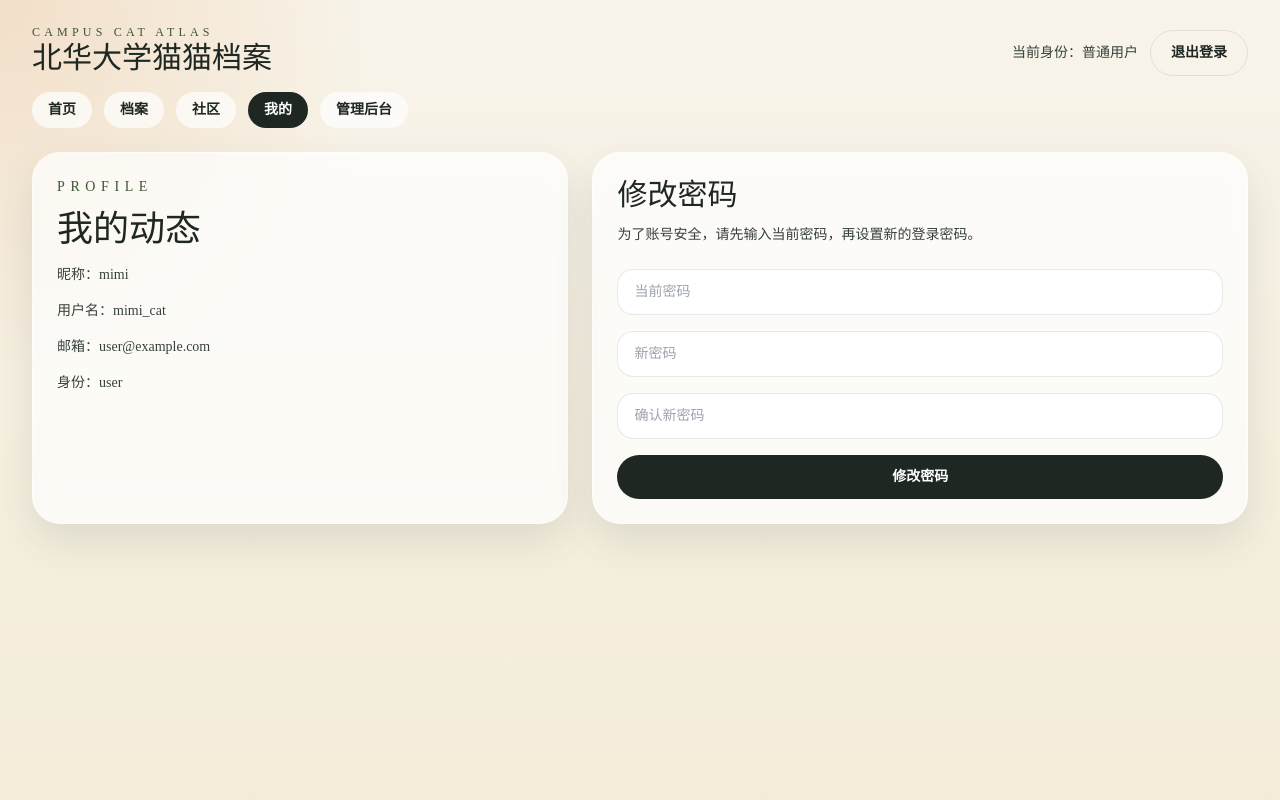
Test case: Public pages › lets a logged-in user change password from the profile page
Check: the text "用户名：mimi_cat" is shown, box [57,303,166,318]
Type "Secret123!" into the password field with placeholder "当前密码". click: (920, 292)
box: [617,269,1223,315]
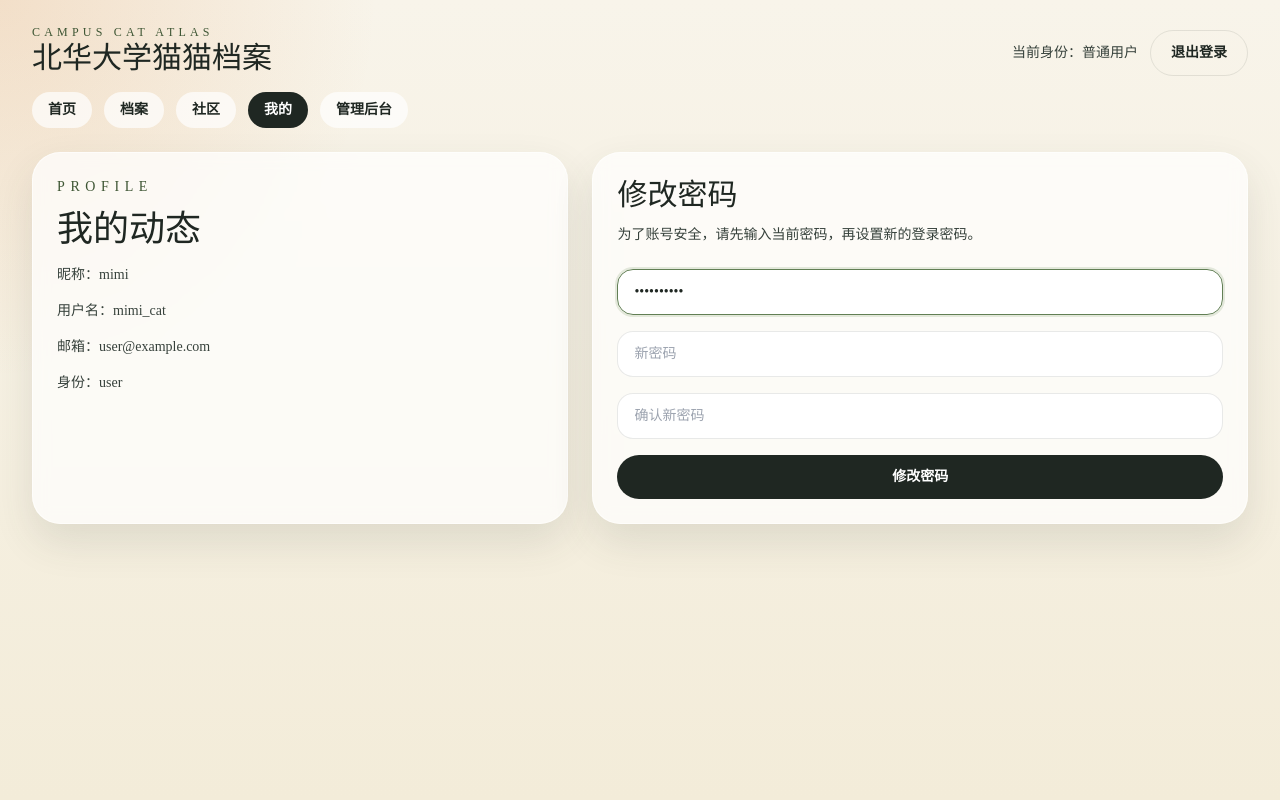
Type "BrandNew123!" into the password field with placeholder "新密码". click: (920, 354)
box: [617,331,1223,377]
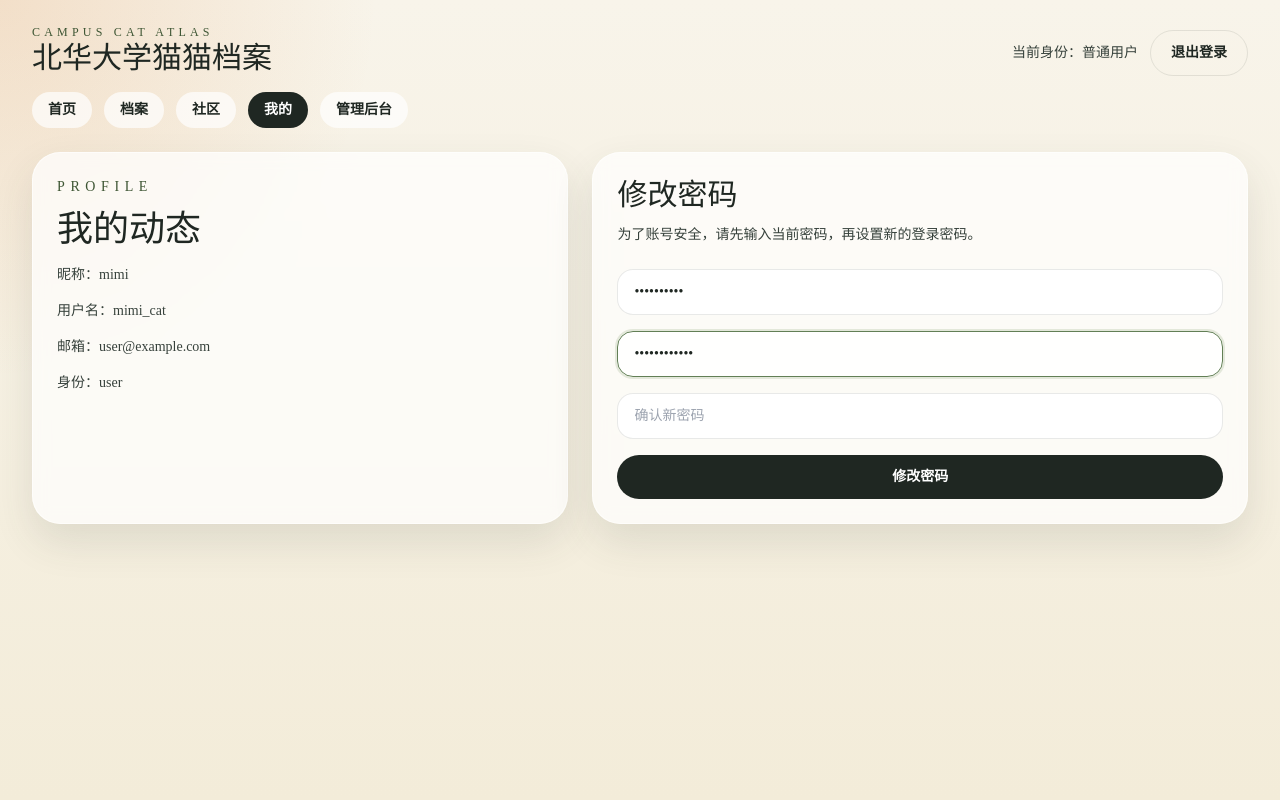
Type "BrandNew123!" into the password field with placeholder "确认新密码". click: (920, 416)
box: [617,393,1223,439]
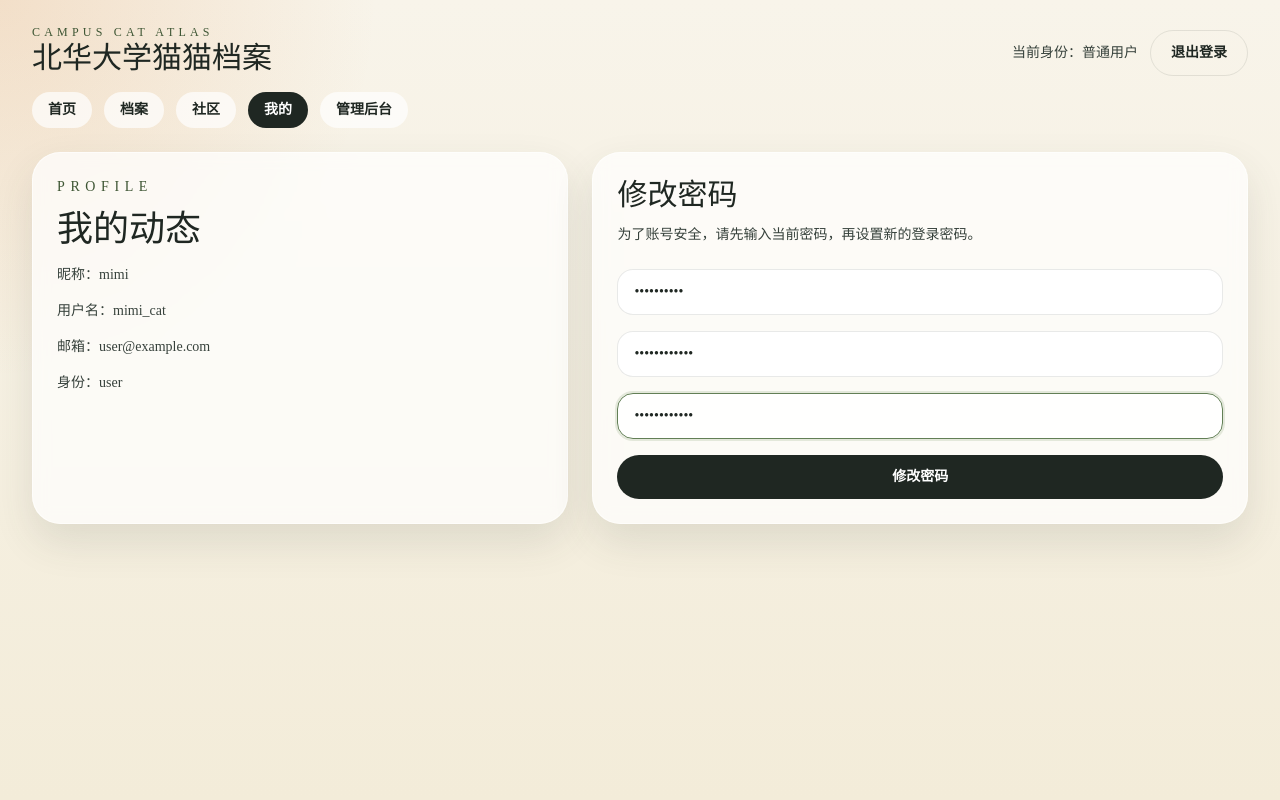
Click the button "修改密码". click: (920, 477)
box: [617,455,1223,499]
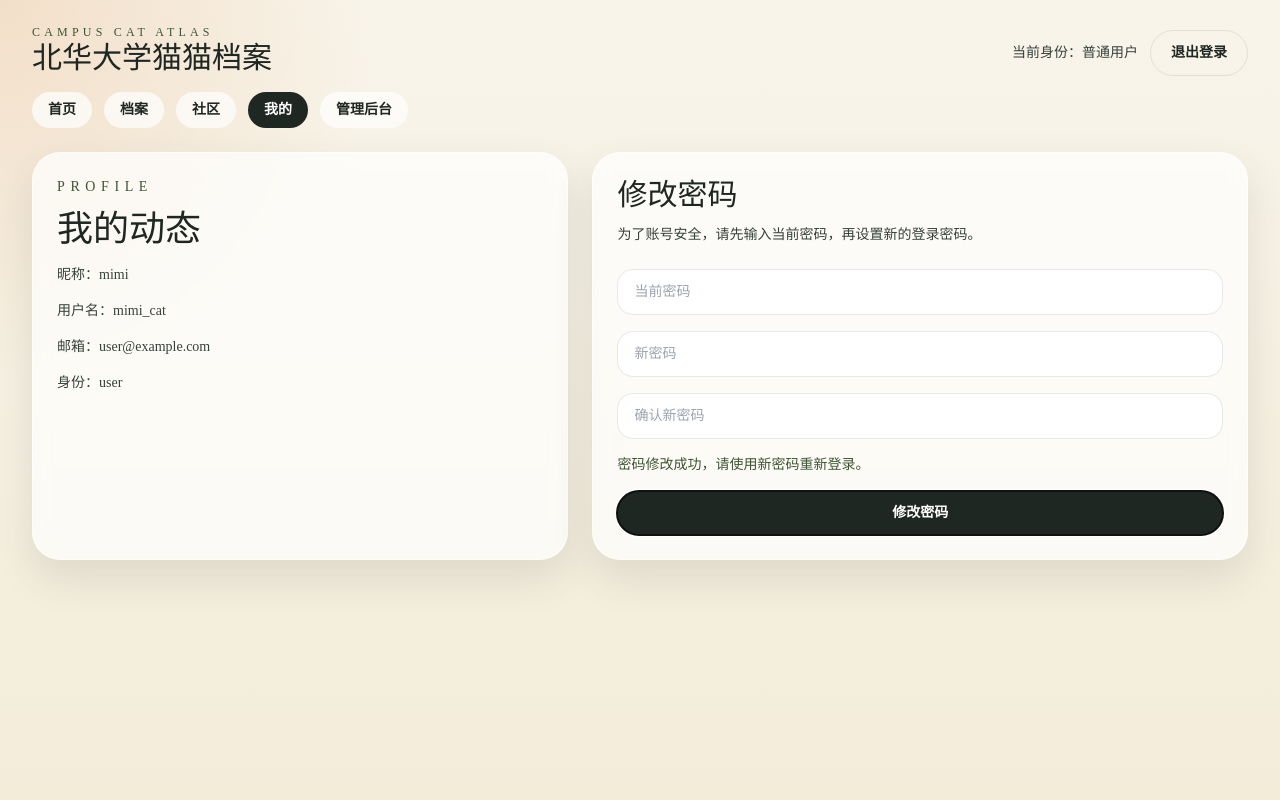
Check: the text "密码修改成功，请使用新密码重新登录。" is shown, box [617,457,869,472]
